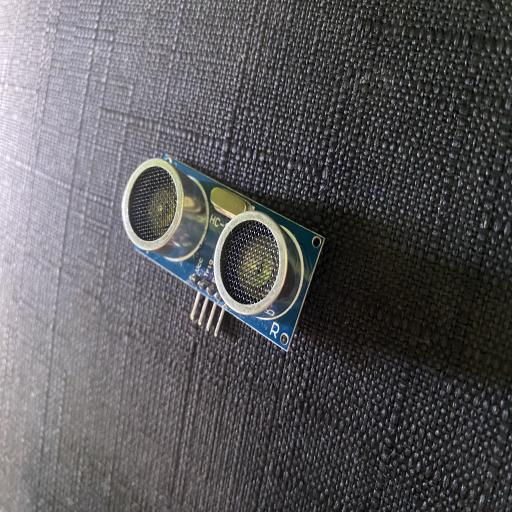Ultrasonic Sensor: (120, 151, 326, 352)
